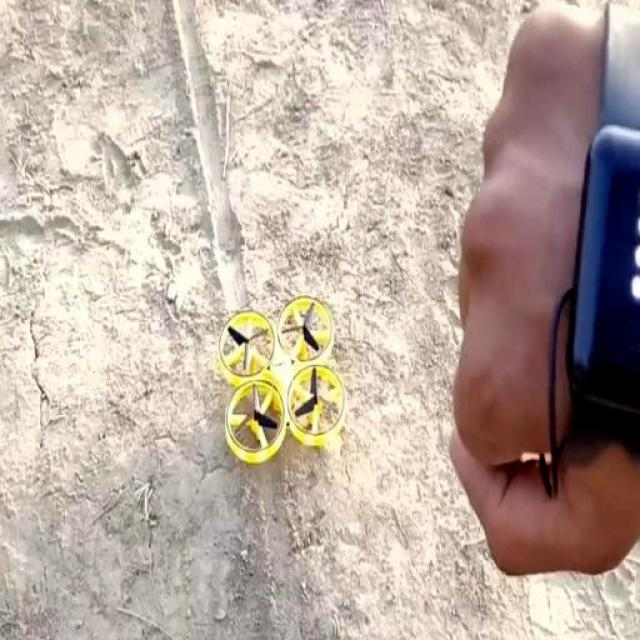bird: (215, 276, 362, 490)
